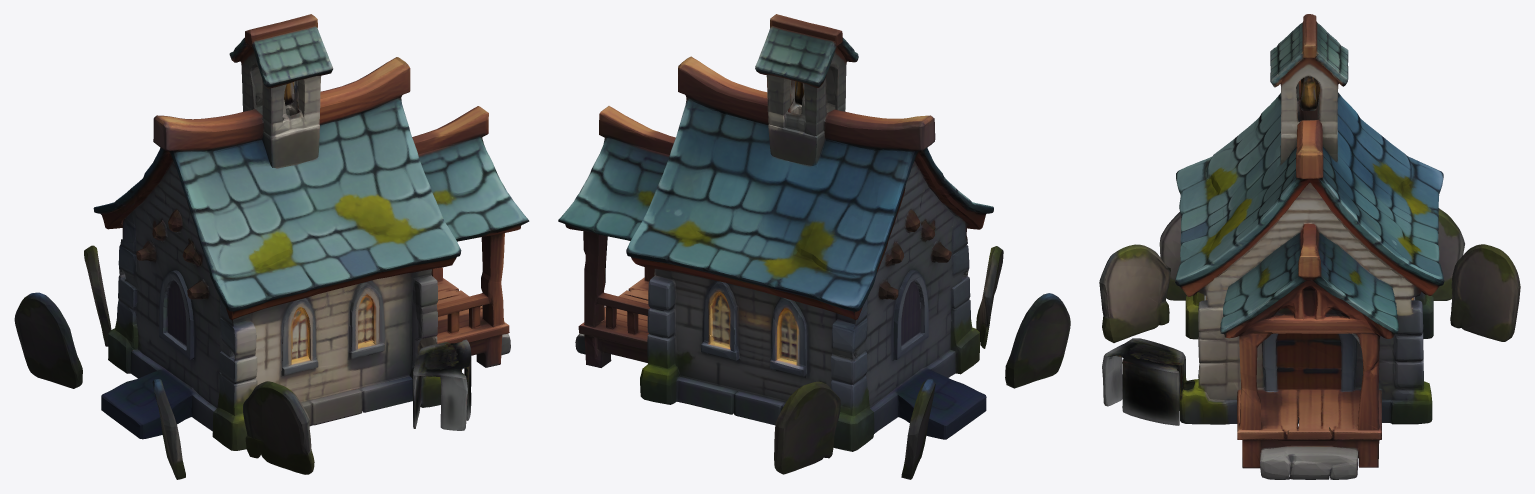
File: chapel.glb
3 views of the same model, side by side, from view 1: azimuth 30°, elevation 25°; view 2: azimuth 150°, elevation 25°; view 3: azimuth 270°, elevation 25° (orthographic). The views are drawn at different scales.
Parts seen in each view (by area): view 1: geometry_0; view 2: geometry_0; view 3: geometry_0.
Boxes of the visible parts, x1,y1,x2,y2 form: geometry_0: (14,14,529,479); geometry_0: (558,14,1070,479); geometry_0: (1099,14,1520,479).
Size of the model in its own units: 0.9585 by 0.8333 by 0.9008.
Materials: 1 (1 with a texture image).
